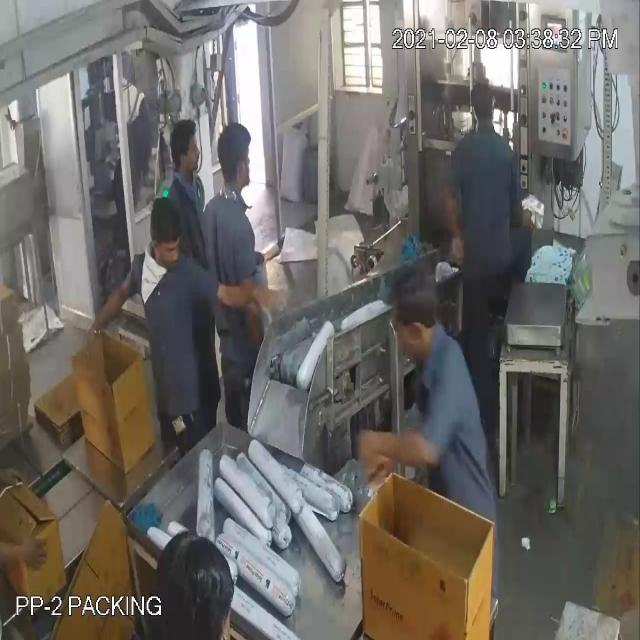No_Gloves: (24, 52, 384, 538)
